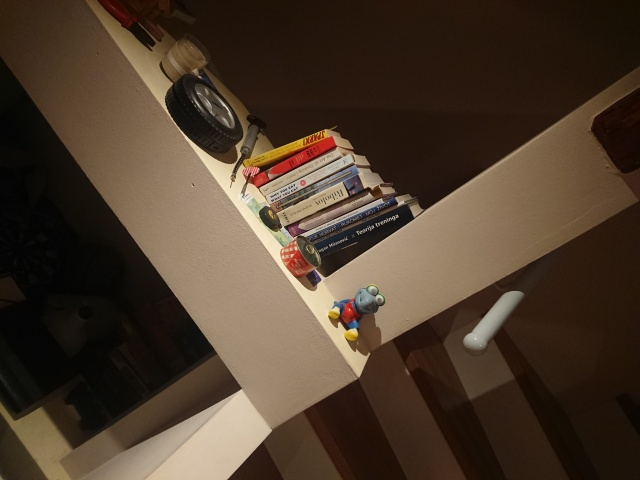Podravka Luncheon Meat 150g: (278, 232, 323, 280)
